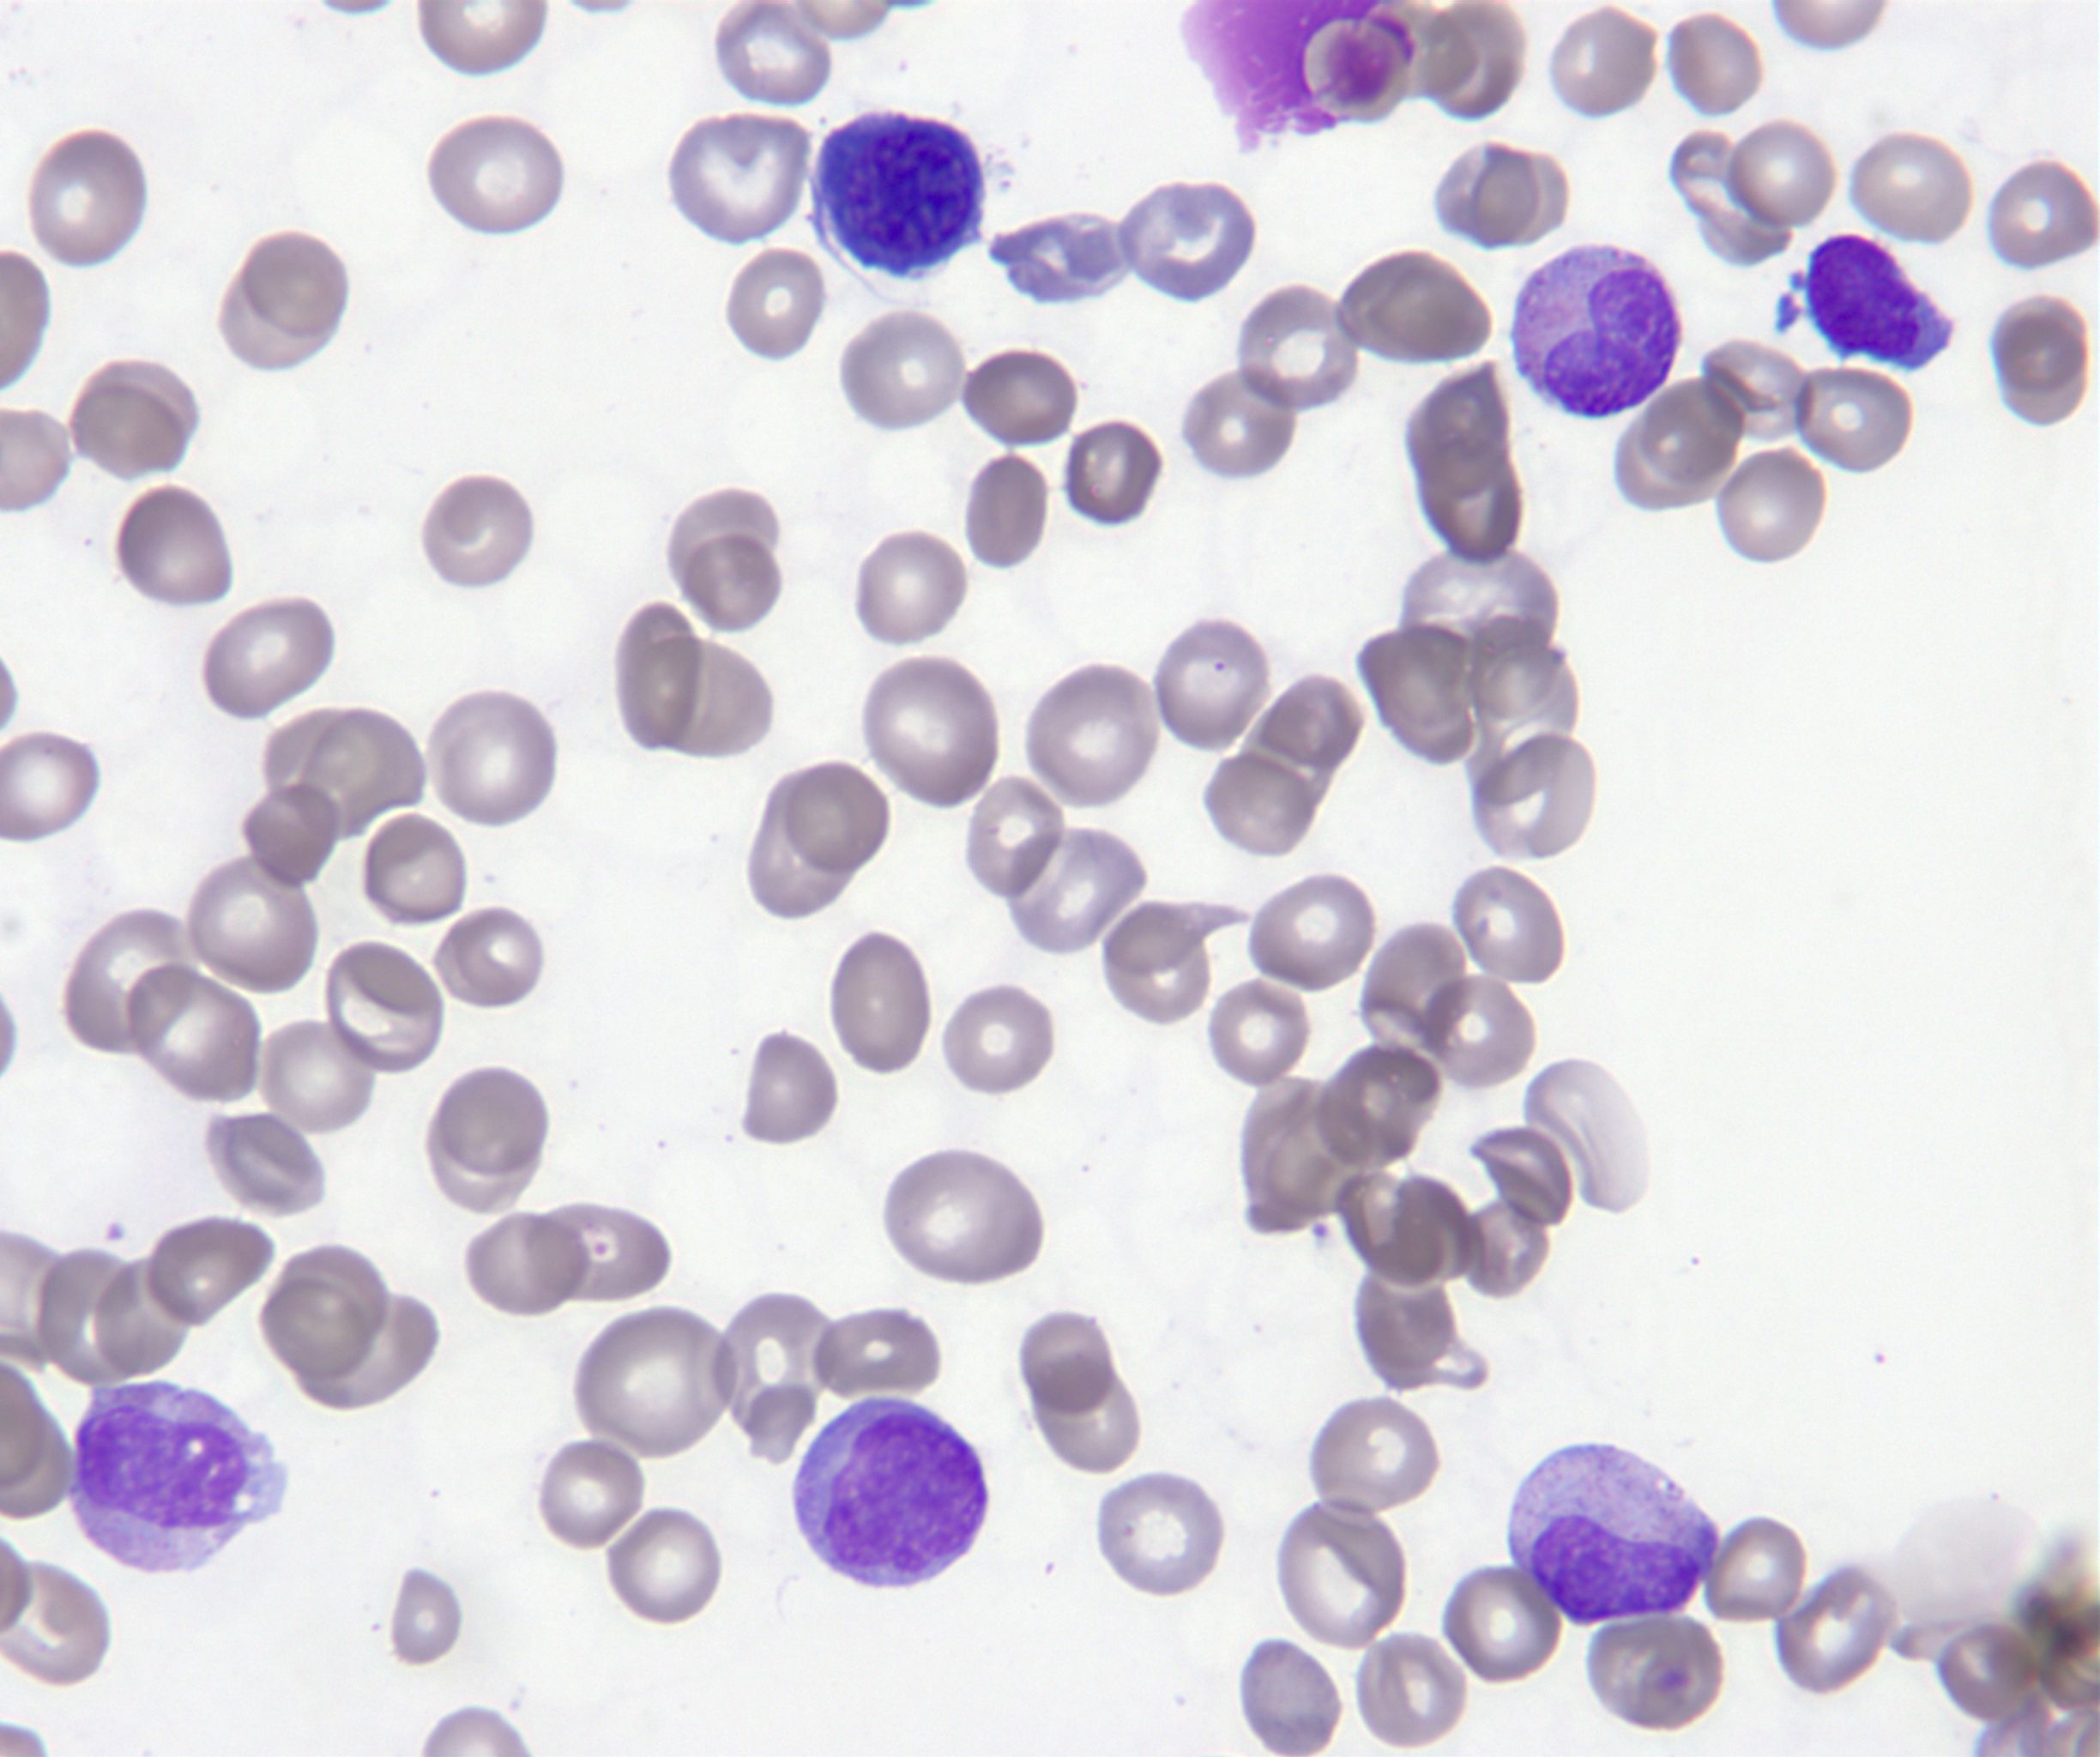23: (811, 115, 985, 279)
3: (70, 1380, 290, 1574)
32: (1777, 234, 1957, 368)
4: (1505, 1443, 1723, 1624), (1510, 244, 1681, 419)
42: (792, 1396, 991, 1588)
x: (1183, 2, 1422, 152)
